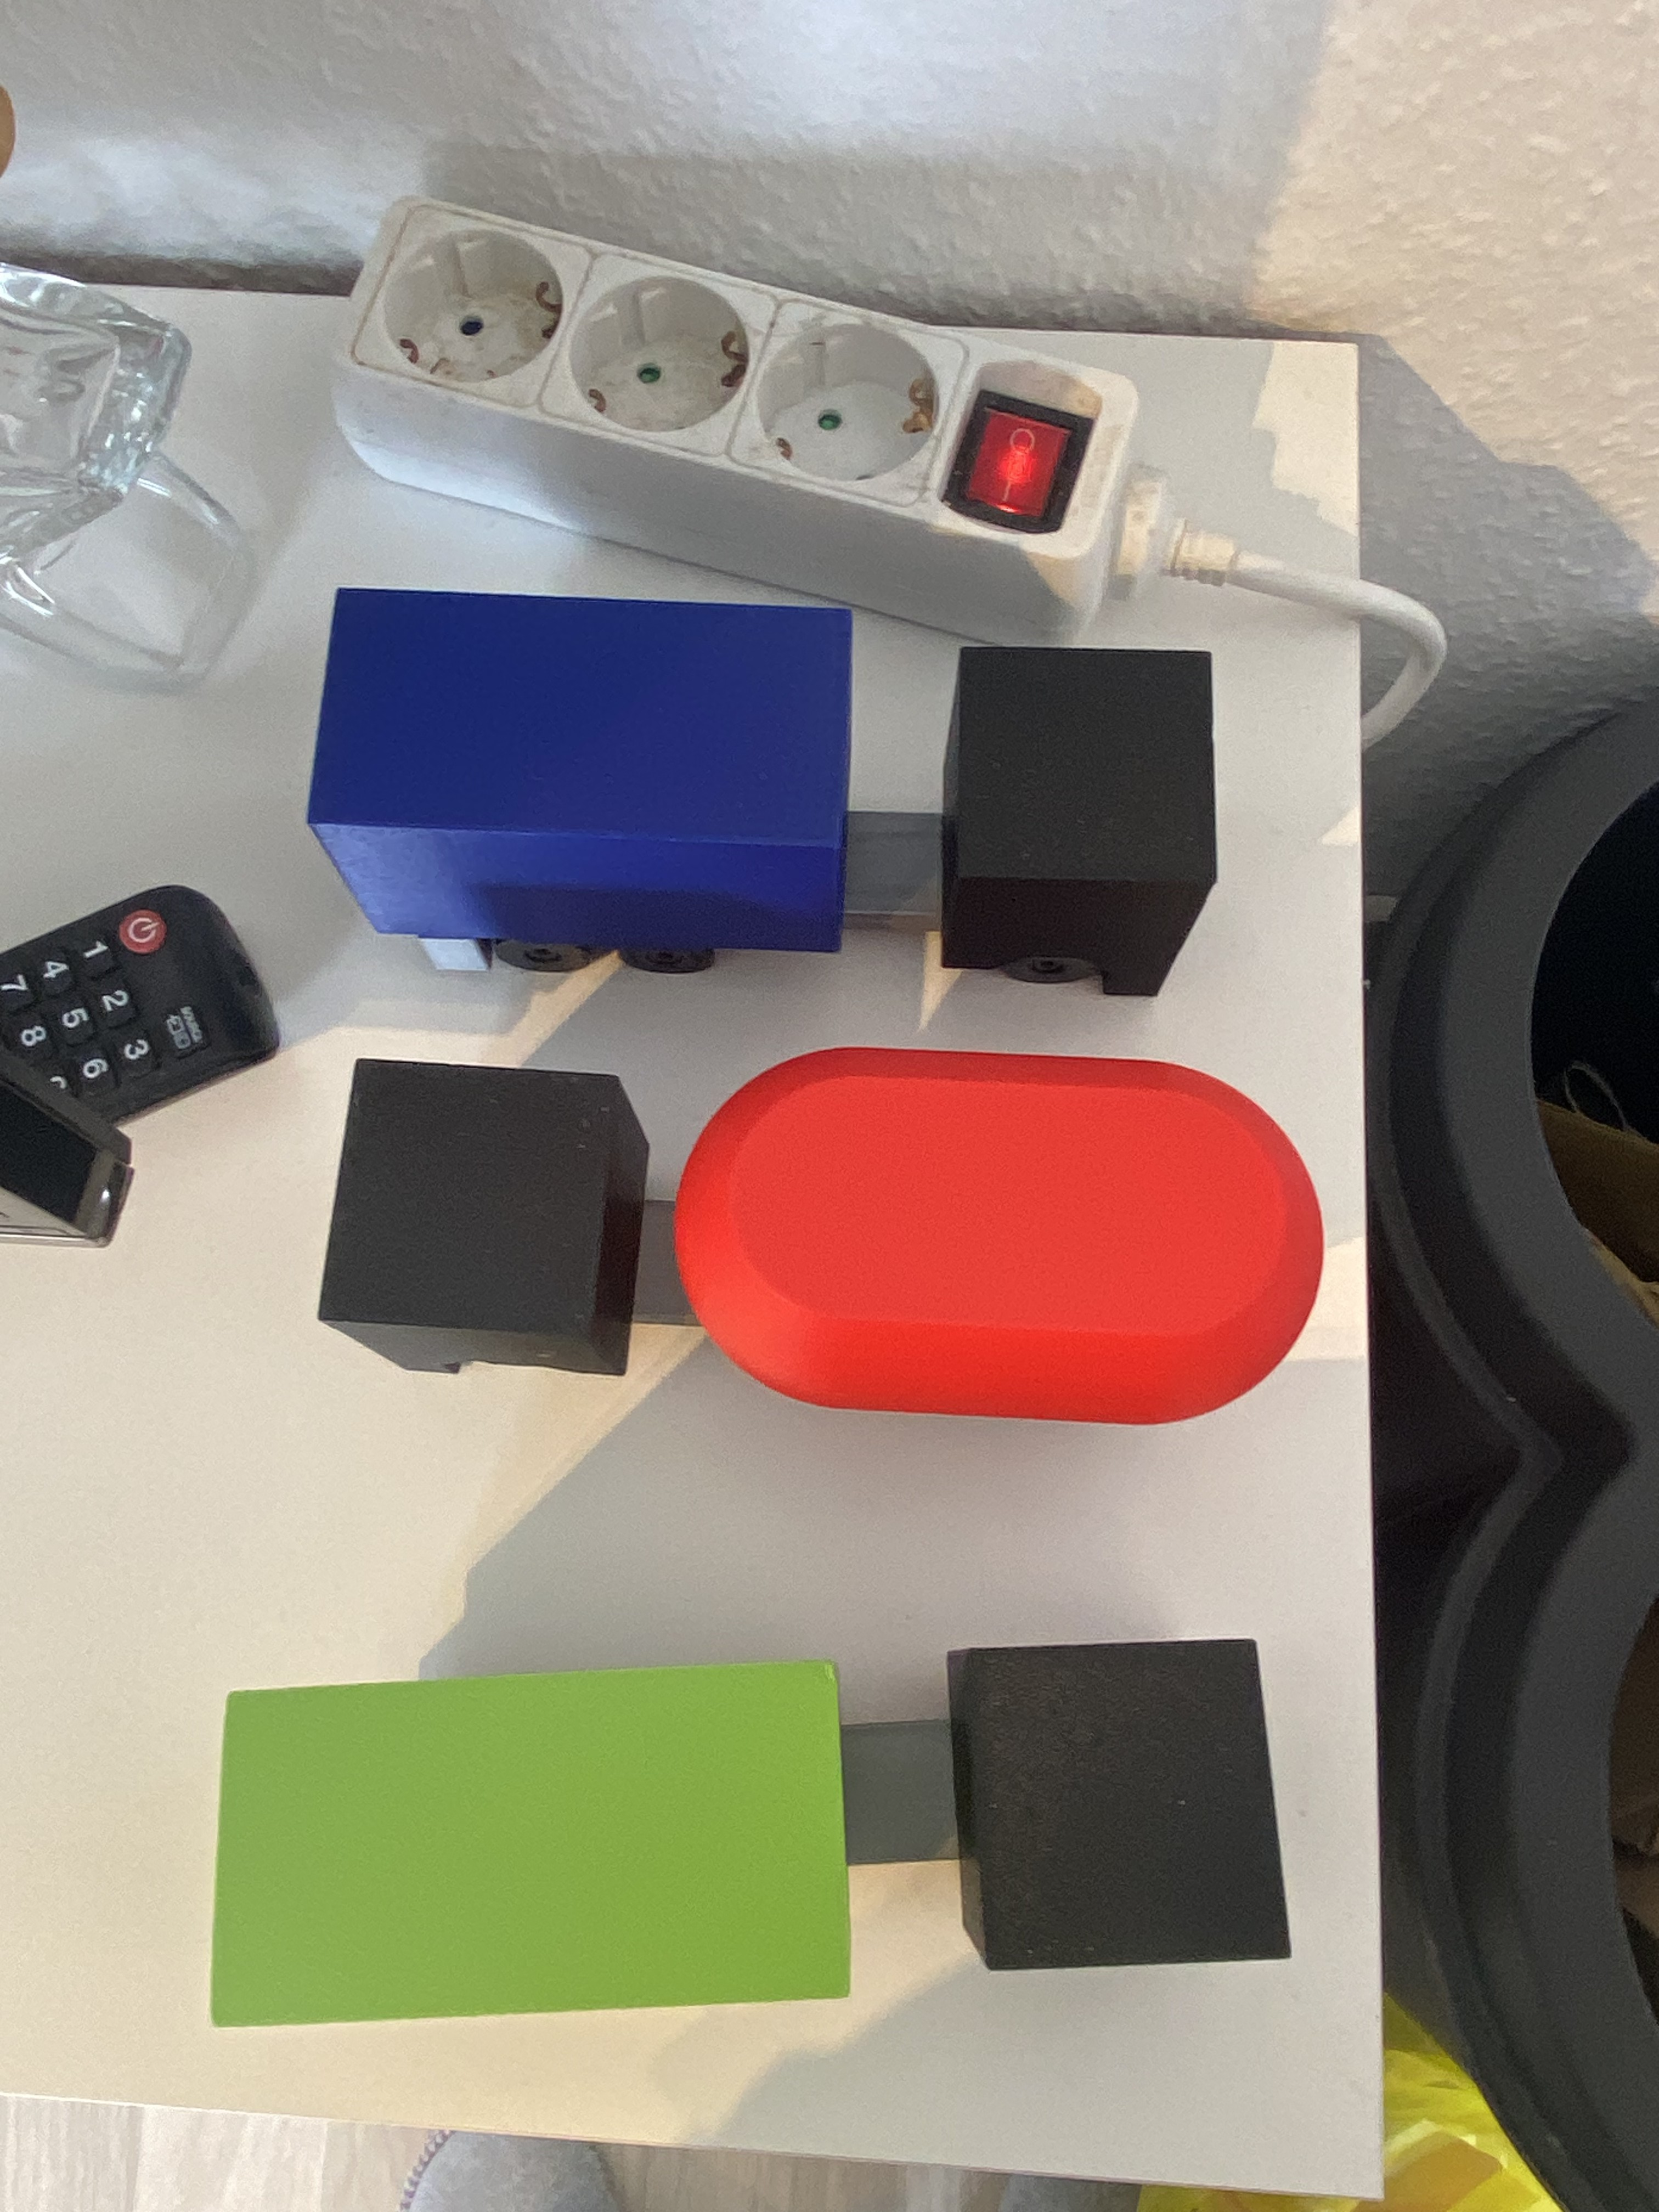blue_truck: (312, 597, 1230, 986)
green_truck: (554, 1318, 962, 2212)
red_truck: (321, 1042, 1328, 1420)
